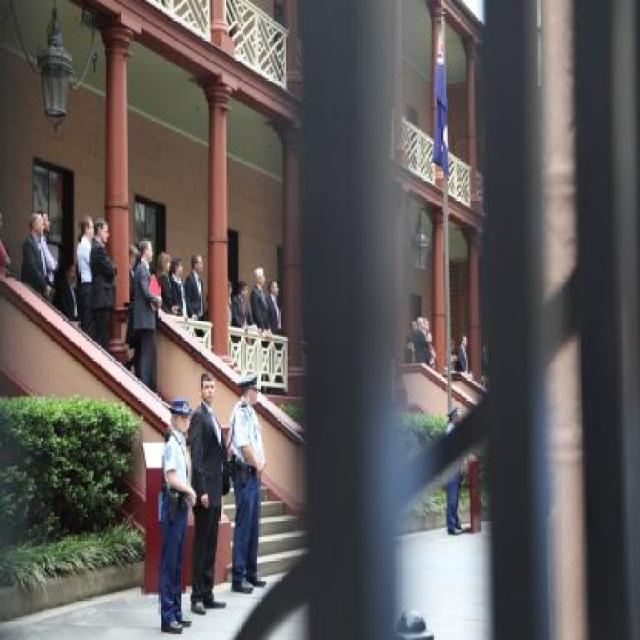stair: (220, 426, 308, 574)
